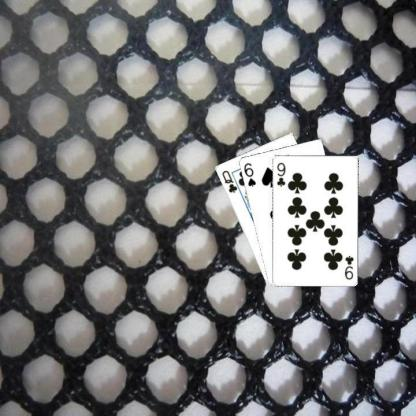6S: (241, 160, 256, 188)
9C: (342, 252, 355, 281), (274, 159, 286, 188)
QC: (219, 168, 238, 194)
